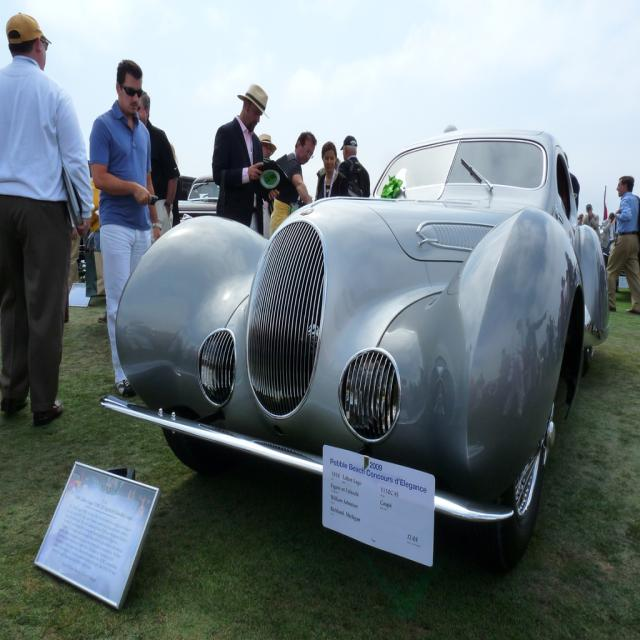car: (115, 134, 584, 565)
